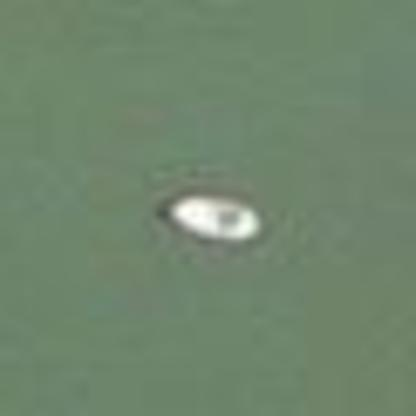ship: (140, 178, 280, 254)
